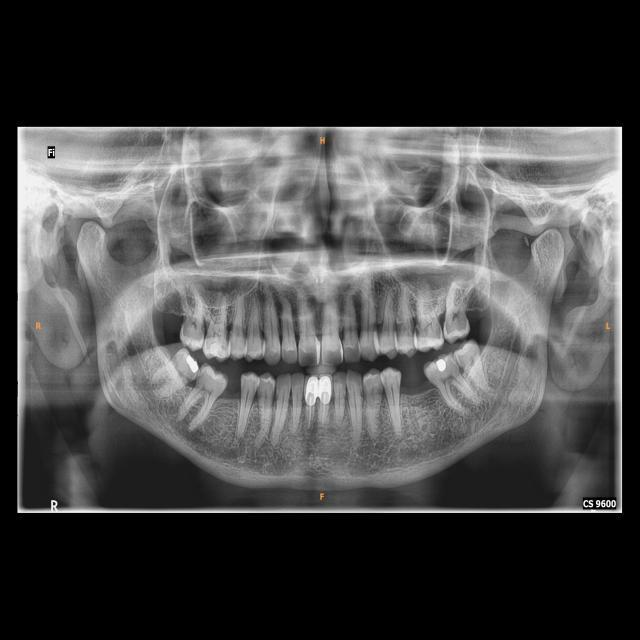dolgu: (183, 350, 200, 378), (435, 358, 453, 375)
kanal-tedavisi: (318, 400, 329, 426), (305, 402, 314, 433)
kaplama: (316, 375, 334, 406), (304, 375, 318, 404)
